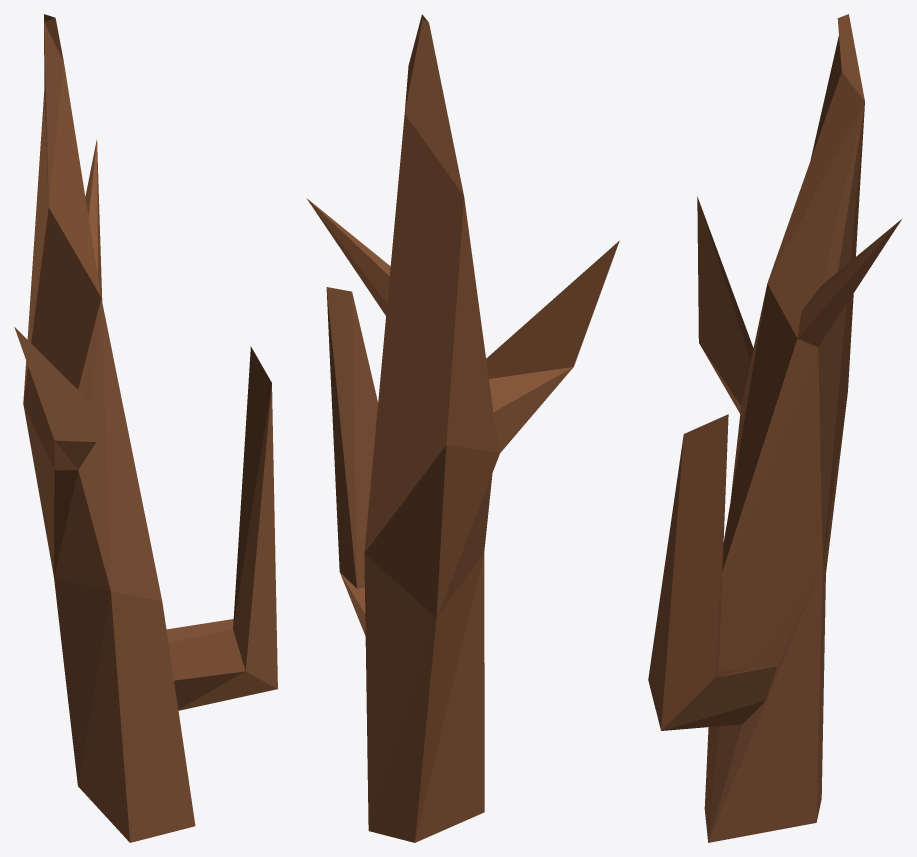
Rendered from Trunk_v04.fbx.
3 renders of one model, left to right at view 1: azimuth 30°, elevation 25°; view 2: azimuth 150°, elevation 25°; view 3: azimuth 270°, elevation 25°, orthographic. The views are drawn at different scales.
Parts seen in each view (by area): view 1: Trunk_v04; view 2: Trunk_v04; view 3: Trunk_v04.
Boxes of the visible parts, <box> form: Trunk_v04: <box>14,14,277,842</box>; Trunk_v04: <box>306,14,619,842</box>; Trunk_v04: <box>648,14,902,842</box>.
Bounding box in the file's own units: 11.32 × 33.49 × 9.8.
1 material, 1 textured.
